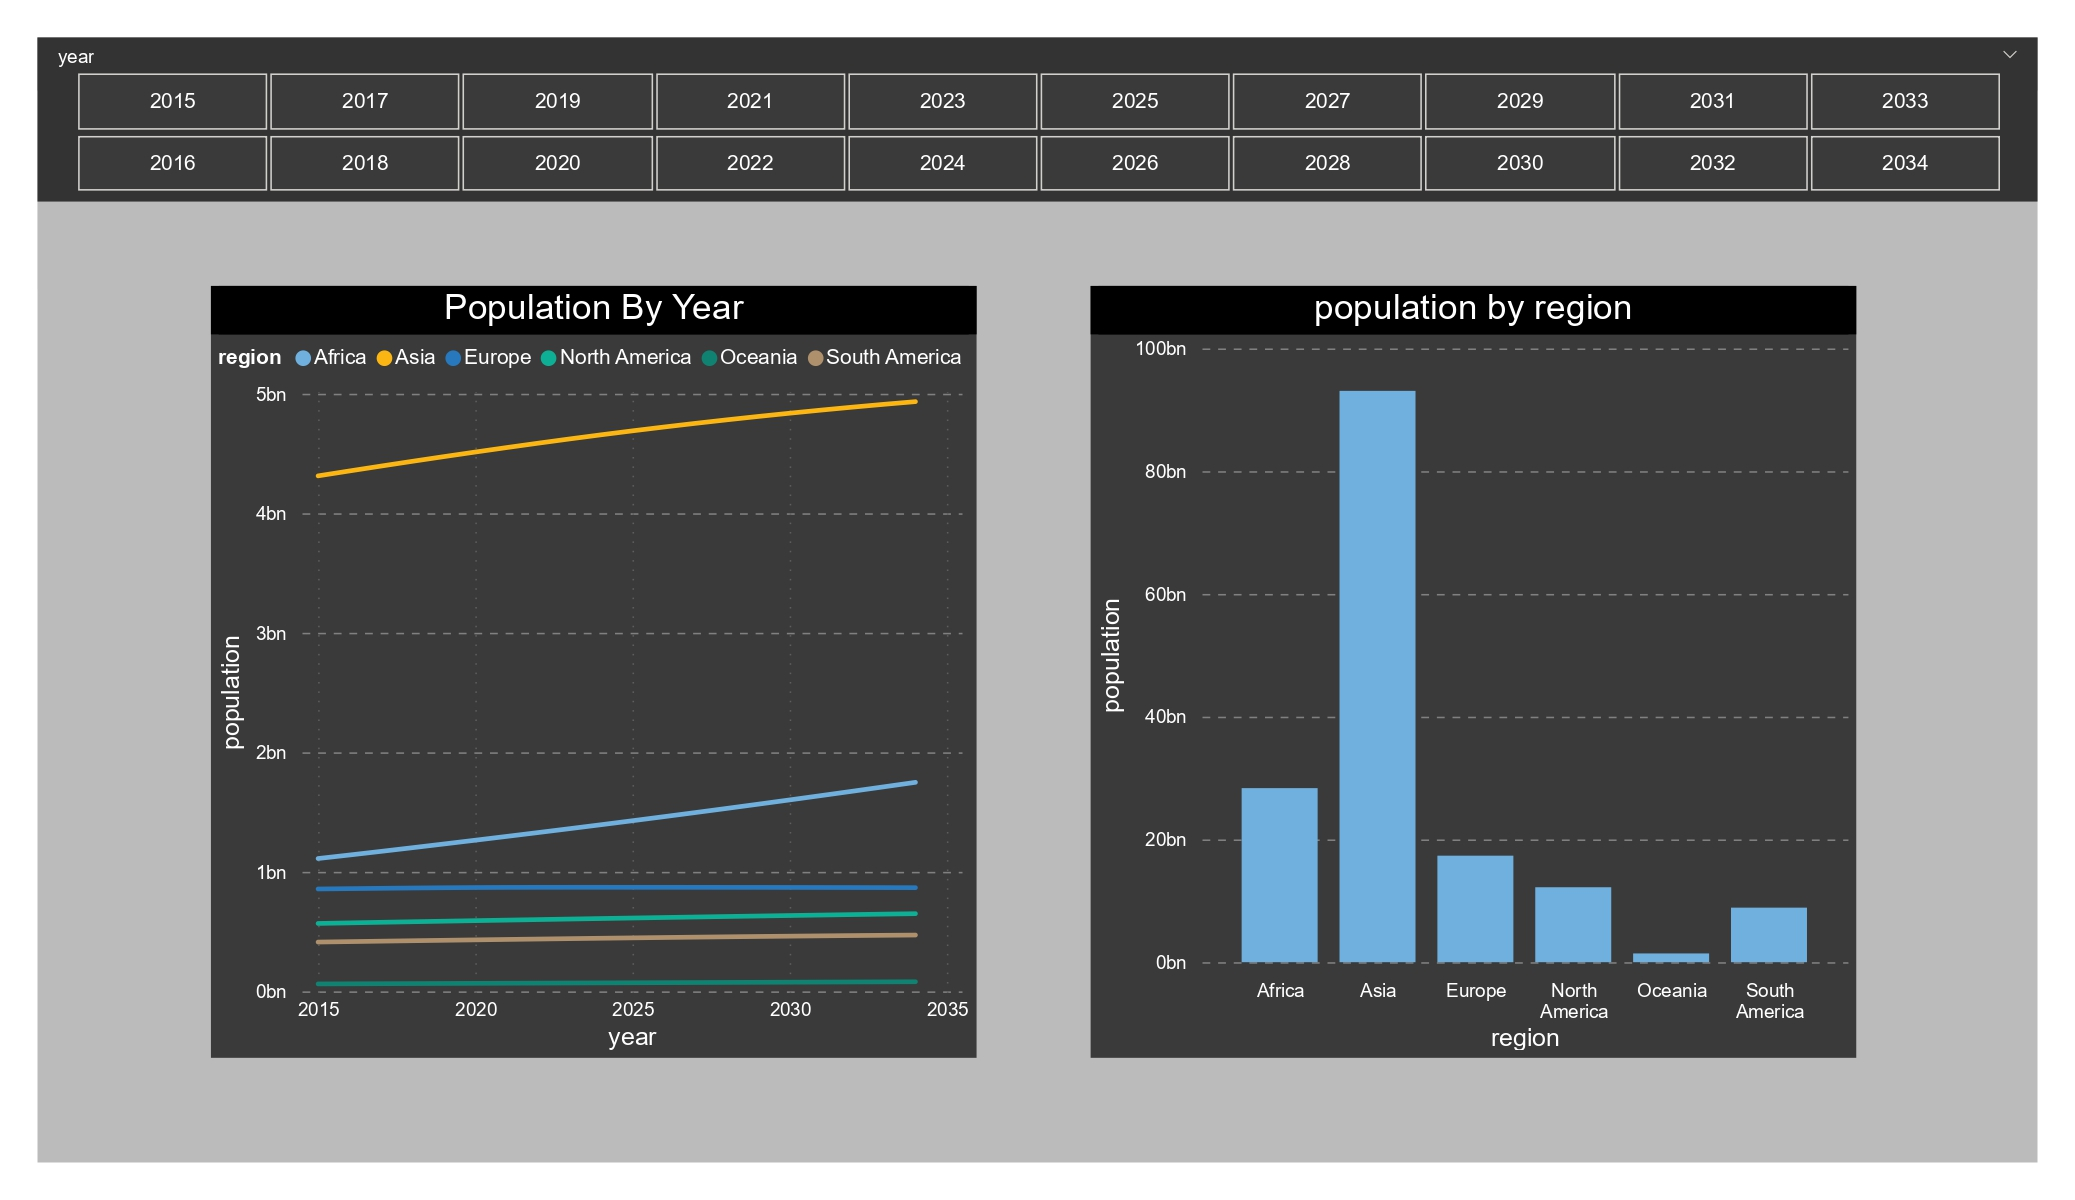

This screenshot's page, from the dashboard's own definition file:
{"tool":"powerbi","page":{"name":"Line & Column","canvas":[1280,720],"ordinal":2},"visuals":[{"type":"lineChart","title":"Population By Year","fields":{"Category":["FACT-population.year"],"Y":["Sum(FACT-population.population)"],"Series":["DIM-region.region"]},"box":[111.2,158.9,490.2,493.9],"z":0},{"type":"columnChart","fields":{"Y":["Sum(FACT-population.population)"],"Category":["DIM-region.region Hierarchy.region","DIM-region.region Hierarchy.country"]},"box":[673.5,158.9,490.2,493.9],"z":1000},{"type":"slicer","fields":{"Values":["FACT-population.year"]},"box":[0,0,1279.9,105.1],"z":2000}]}

Visuals, with their boxes in screenshot pixels (x1, y1, x2, y2):
"Population By Year" lineChart: x1=220 y1=277 x2=976 y2=1039
columnChart - Sum(FACT-population.population) x DIM-region.region Hierarchy.region: x1=1087 y1=277 x2=1843 y2=1039
slicer - FACT-population.year: x1=49 y1=32 x2=2022 y2=194
